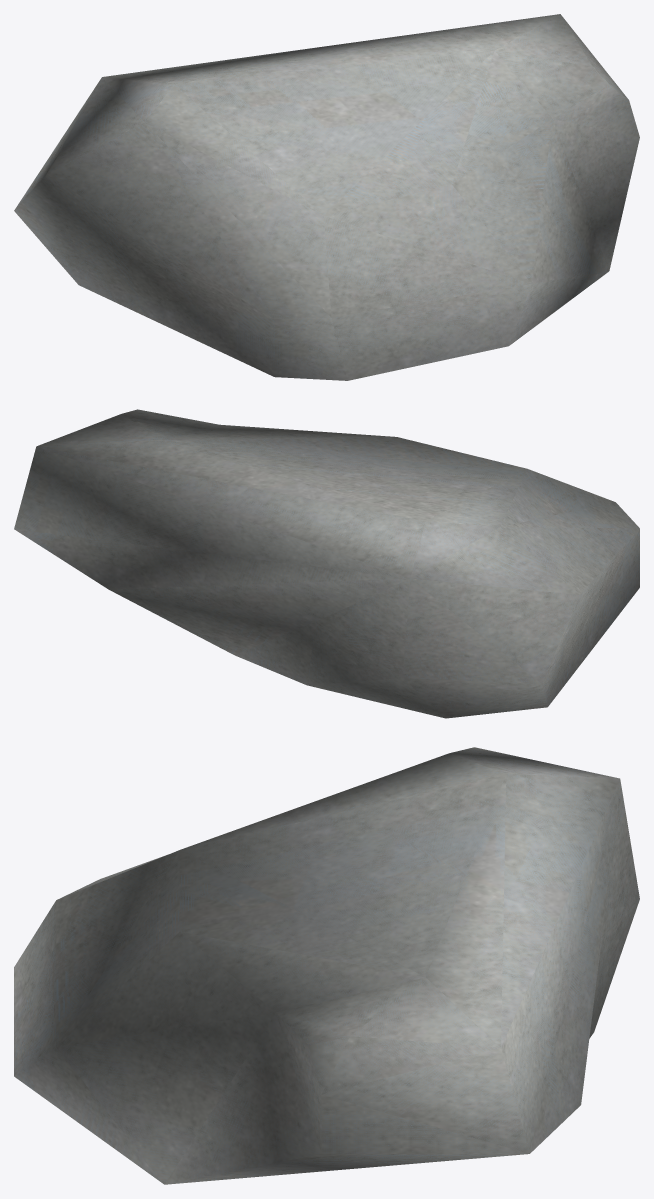
File: rock02.fbx
The picture shows the model from 3 angles, top to bottom: view 1: azimuth 30°, elevation 25°; view 2: azimuth 150°, elevation 25°; view 3: azimuth 270°, elevation 25°; orthographic projection. The views are drawn at different scales.
Visible parts, largest first — view 1: Boulder1; view 2: Boulder1; view 3: Boulder1.
Boxes of the visible parts, left/top/right/bottom form: Boulder1: left=14, top=14, right=639, bottom=380; Boulder1: left=14, top=409, right=639, bottom=718; Boulder1: left=14, top=747, right=639, bottom=1184.
Bounding box in the file's own units: 1245 × 368 × 966.
